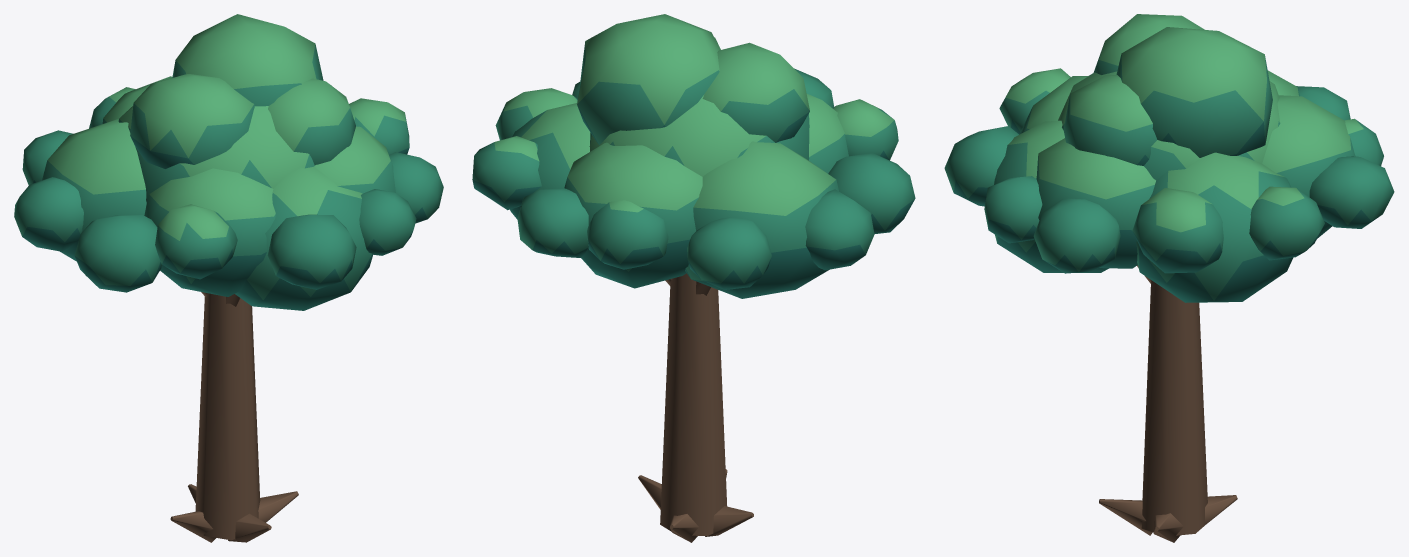
Rendered from tree_a.glb.
The picture shows the model from 3 angles, left to right: view 1: azimuth 30°, elevation 25°; view 2: azimuth 150°, elevation 25°; view 3: azimuth 270°, elevation 25°; orthographic projection. The views are drawn at different scales.
Visible parts, largest first — view 1: body_nl, body; view 2: body_nl, body; view 3: body_nl, body.
Part boxes in pixels (x1,y1,x2,y2): body_nl: [14, 14, 443, 310]; body: [170, 292, 298, 542]; body_nl: [472, 14, 915, 298]; body: [638, 273, 753, 542]; body_nl: [944, 14, 1394, 302]; body: [1099, 265, 1237, 542].
Size of the model in its own units: 3.77 by 4.85 by 3.83.
